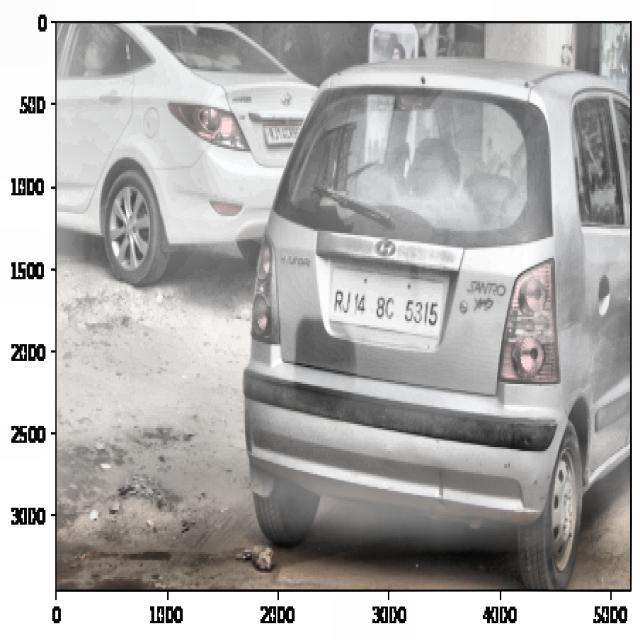license_plate: (329, 279, 444, 334)
